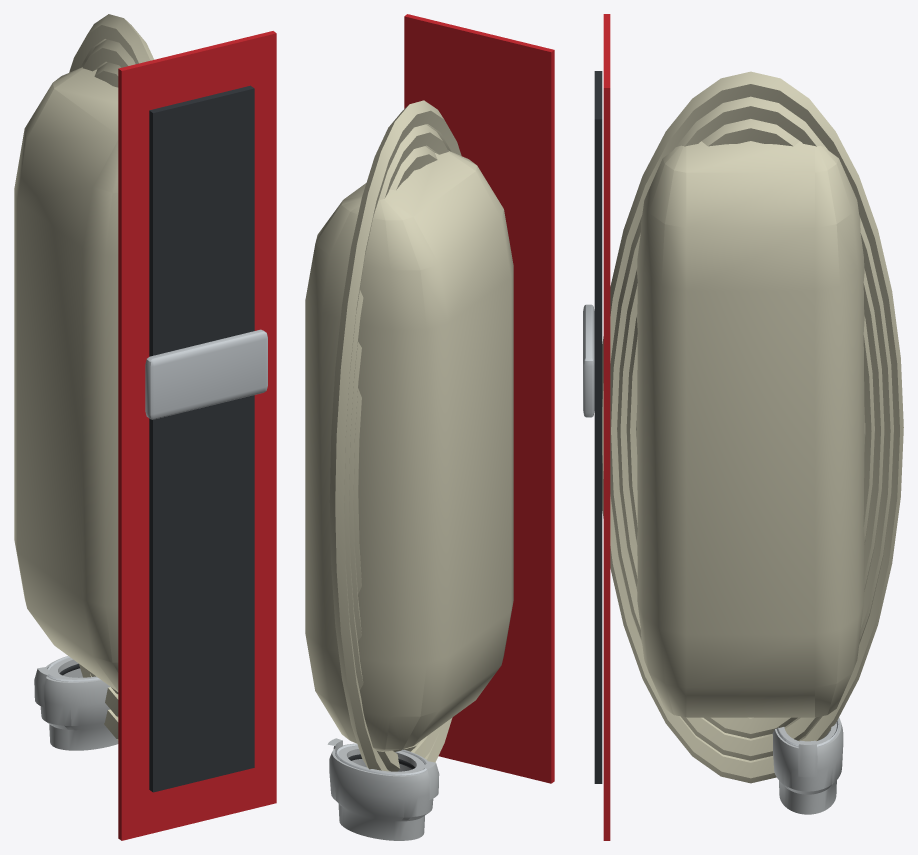
File: ob_closed_case_g3_2.glb
The picture shows the model from 3 angles, left to right: view 1: azimuth 30°, elevation 25°; view 2: azimuth 150°, elevation 25°; view 3: azimuth 270°, elevation 25°; orthographic projection. The views are drawn at different scales.
Visible parts, largest first — view 1: ob_closed_case_g3_2; view 2: ob_closed_case_g3_2; view 3: ob_closed_case_g3_2.
Part boxes in pixels (x1,y1,x2,y2): ob_closed_case_g3_2: (14, 14, 276, 840); ob_closed_case_g3_2: (305, 14, 554, 840); ob_closed_case_g3_2: (583, 14, 903, 840).
Bounding box in the file's own units: 0.12 × 0.57 × 0.22.
